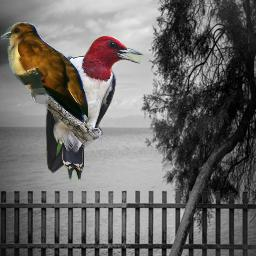Cuckoo: (1, 22, 88, 124)
Woodpecker: (42, 36, 147, 182)
